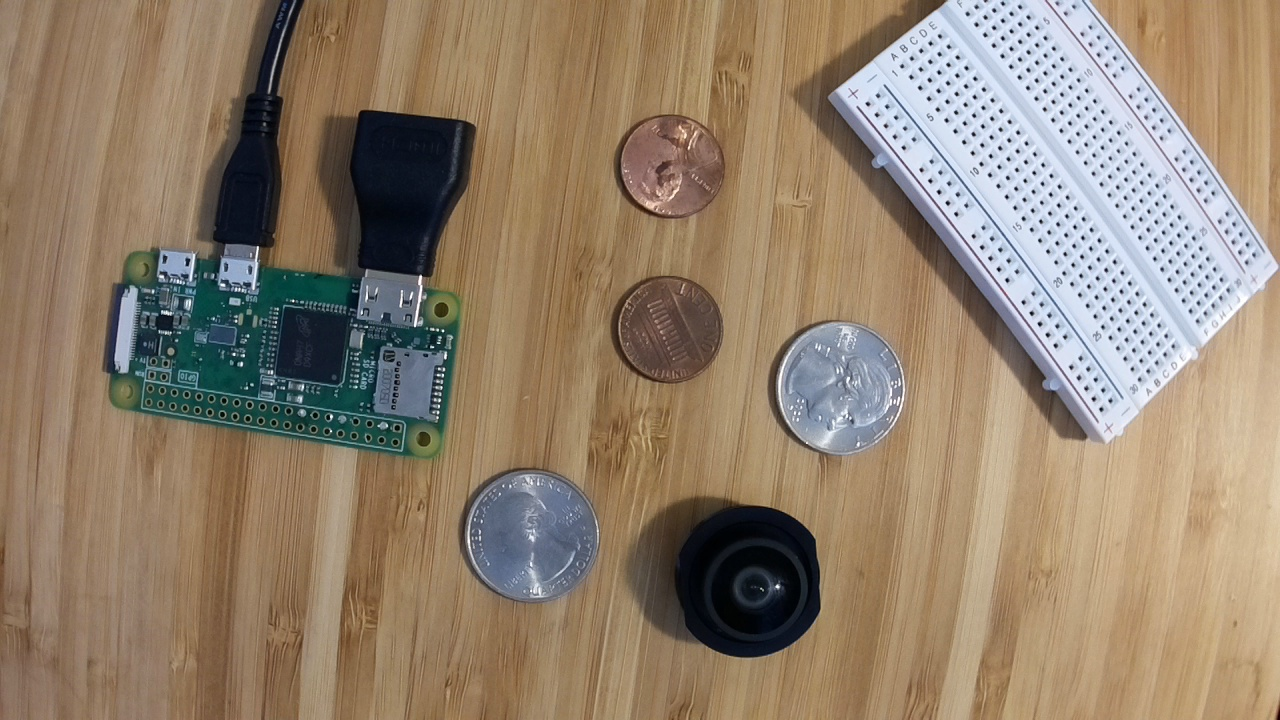penny: (611, 273, 725, 385), (613, 112, 729, 218)
quarter: (770, 318, 906, 458), (462, 466, 600, 602)
